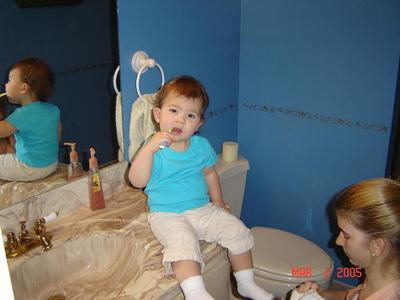person: (128, 75, 275, 300)
